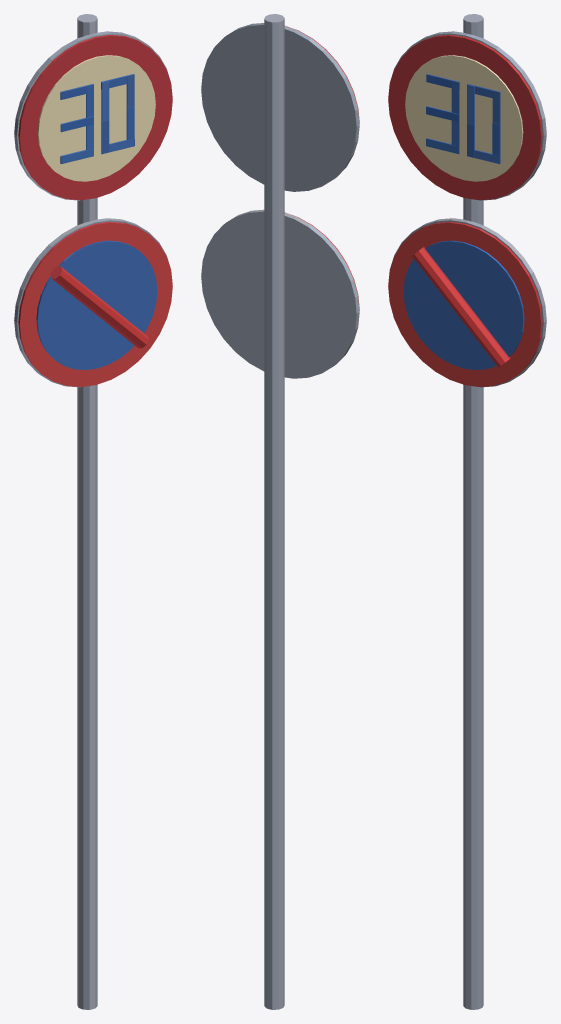
The model's file is HK_Sign_Paired30.lod.glb.
3 renders of one model, left to right at view 1: azimuth 30°, elevation 25°; view 2: azimuth 150°, elevation 25°; view 3: azimuth 330°, elevation 25°, orthographic.
Parts seen in each view (by area): view 1: HK_Sign_Paired30; view 2: HK_Sign_Paired30; view 3: HK_Sign_Paired30.
Boxes of the visible parts, bbox=[...] form: HK_Sign_Paired30: bbox=[14, 14, 172, 1009]; HK_Sign_Paired30: bbox=[201, 14, 359, 1009]; HK_Sign_Paired30: bbox=[388, 14, 546, 1009].
Bounding box in the file's own units: 0.61 × 3.7 × 0.1413.
